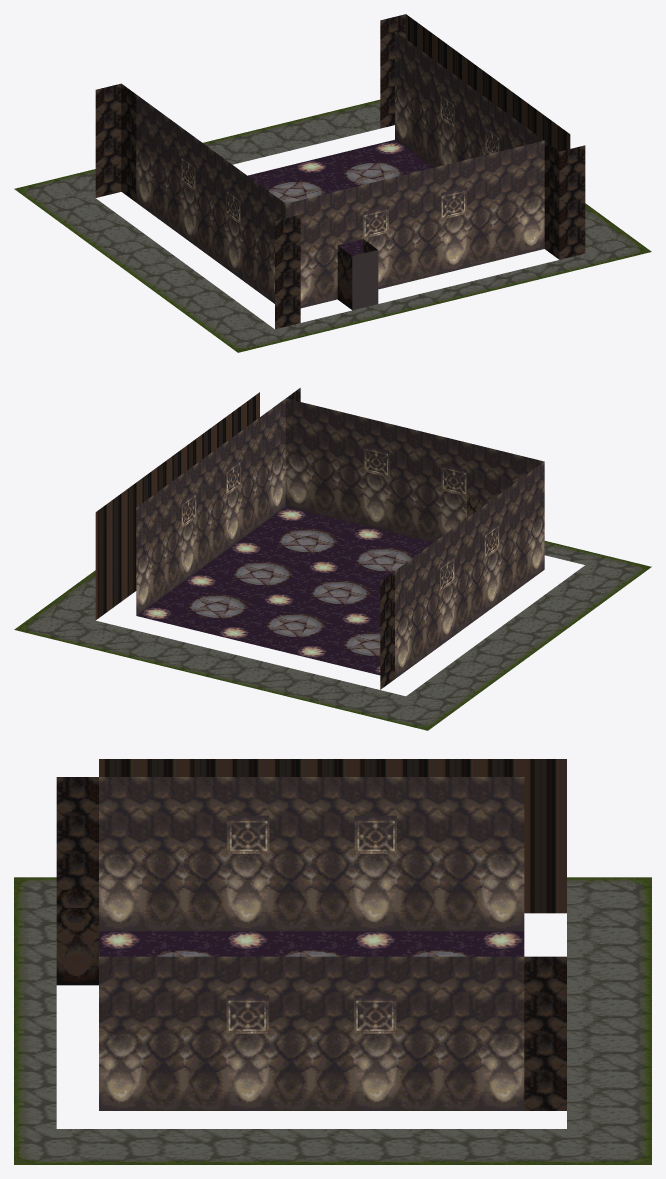
Rendered from catalog.obj.
3 renders of one model, top to bottom at view 1: azimuth 30°, elevation 25°; view 2: azimuth 150°, elevation 25°; view 3: azimuth 270°, elevation 25°, orthographic. The views are drawn at different scales.
Visible parts, largest first — view 1: cell_18_9, cell_27_9, cell_25_9, cell_19_9, cell_26_9, cell_28_19, cell_22_9, cell_20_9, cell_21_9, cell_23_9, cell_17_19, cell_24_9 (+18 smaller); view 2: cell_18_9, cell_21_9, cell_19_9, cell_20_9, cell_22_9, cell_23_9, cell_24_9, cell_18_15, cell_18_18, cell_18_17, cell_18_16, cell_27_9 (+20 smaller); view 3: cell_27_9, cell_27_12, cell_27_14, cell_27_16, cell_27_11, cell_27_13, cell_27_15, cell_27_17, cell_27_10, cell_27_18, cell_18_12, cell_18_14 (+93 smaller).
Boxes of the visible parts, x1=… form: cell_18_9: x1=518, y1=130, x2=585, y2=259; cell_27_9: x1=271, y1=193, x2=311, y2=329; cell_25_9: x1=337, y1=185, x2=378, y2=310; cell_19_9: x1=492, y1=147, x2=518, y2=261; cell_26_9: x1=311, y1=191, x2=337, y2=305; cell_28_19: x1=95, y1=83, x2=121, y2=197; cell_22_9: x1=415, y1=166, x2=440, y2=280; cell_20_9: x1=467, y1=153, x2=492, y2=267; cell_21_9: x1=441, y1=159, x2=466, y2=273; cell_23_9: x1=389, y1=172, x2=414, y2=286; cell_17_19: x1=380, y1=14, x2=420, y2=128; cell_24_9: x1=363, y1=178, x2=389, y2=289; cell_18_9: x1=271, y1=388, x2=311, y2=523; cell_21_9: x1=349, y1=417, x2=389, y2=542; cell_19_9: x1=297, y1=405, x2=337, y2=529; cell_20_9: x1=323, y1=411, x2=363, y2=536; cell_22_9: x1=374, y1=423, x2=414, y2=548; cell_23_9: x1=400, y1=430, x2=440, y2=553; cell_24_9: x1=441, y1=436, x2=466, y2=536; cell_18_15: x1=181, y1=464, x2=221, y2=589; cell_18_18: x1=136, y1=497, x2=176, y2=622; cell_18_17: x1=151, y1=486, x2=191, y2=611; cell_18_16: x1=166, y1=475, x2=206, y2=600; cell_27_9: x1=518, y1=455, x2=544, y2=580; cell_27_9: x1=56, y1=777, x2=141, y2=949; cell_27_12: x1=226, y1=777, x2=269, y2=949; cell_27_14: x1=311, y1=777, x2=354, y2=949; cell_27_16: x1=396, y1=777, x2=439, y2=949; cell_27_11: x1=184, y1=777, x2=226, y2=949; cell_27_13: x1=269, y1=777, x2=311, y2=949; cell_27_15: x1=354, y1=777, x2=396, y2=949; cell_27_17: x1=439, y1=777, x2=481, y2=949; cell_27_10: x1=141, y1=777, x2=183, y2=949; cell_27_18: x1=482, y1=777, x2=524, y2=949; cell_18_12: x1=226, y1=956, x2=269, y2=1110; cell_18_14: x1=311, y1=956, x2=354, y2=1110.
Size of the model in its own units: 0.25 by 0.0625 by 0.2344.
10 materials, 10 textured.
